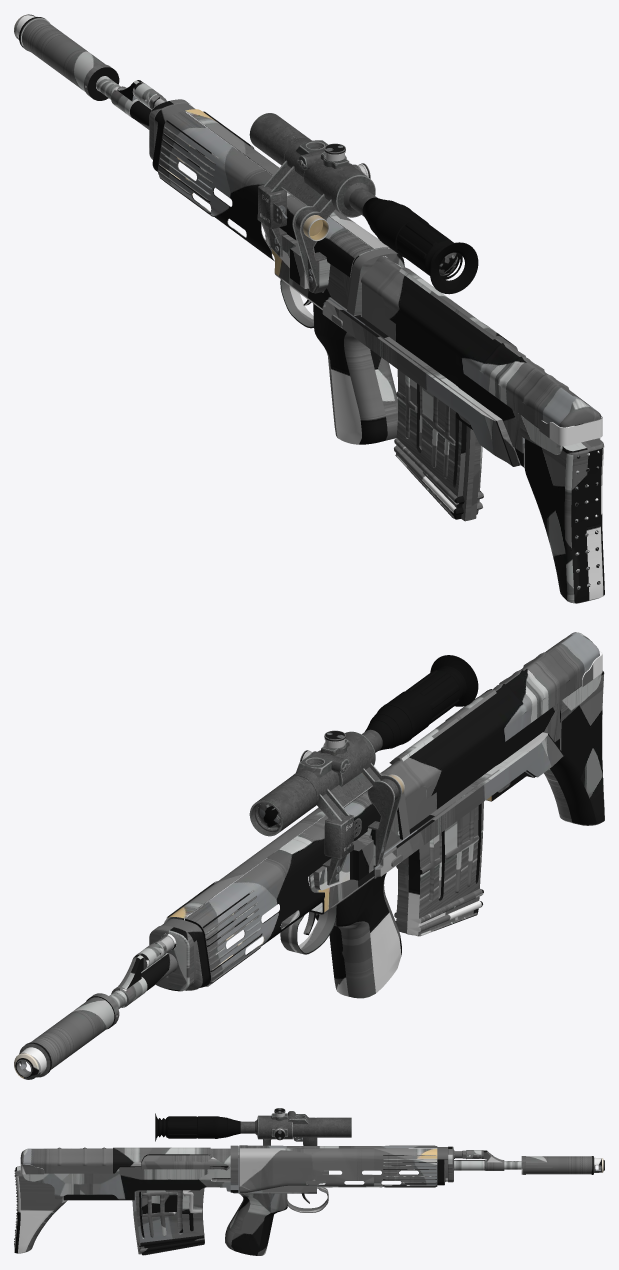
The model's file is hassault-weapon-sniper.glb.
3 renders of one model, top to bottom at view 1: azimuth 30°, elevation 25°; view 2: azimuth 150°, elevation 25°; view 3: azimuth 270°, elevation 25°, orthographic. The views are drawn at different scales.
Parts seen in each view (by area): view 1: svu_a_sniper_rifle; view 2: svu_a_sniper_rifle; view 3: svu_a_sniper_rifle.
Part boxes in pixels (x1,y1,x2,y2): svu_a_sniper_rifle: (14,14,604,603); svu_a_sniper_rifle: (14,632,604,1079); svu_a_sniper_rifle: (14,1108,604,1255).
Size of the model in its own units: 0.2277 by 0.7266 by 2.72.
3 materials, 3 textured.
